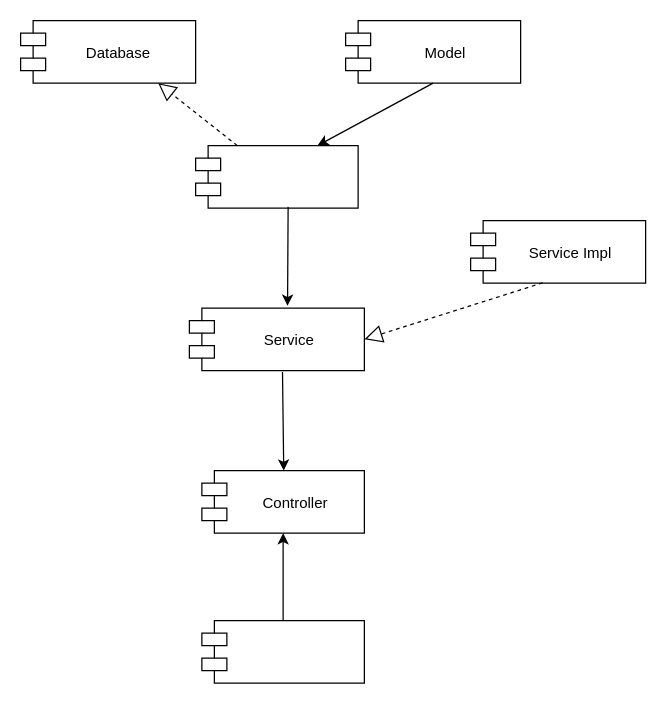
The diagram is 666 pixels wide and 704 high, and some of its shapes have lost their labels. Each missing label, with the centre of its shape:
"Client Page" belongs at point 282,651.
"Repository" belongs at point 276,176.
